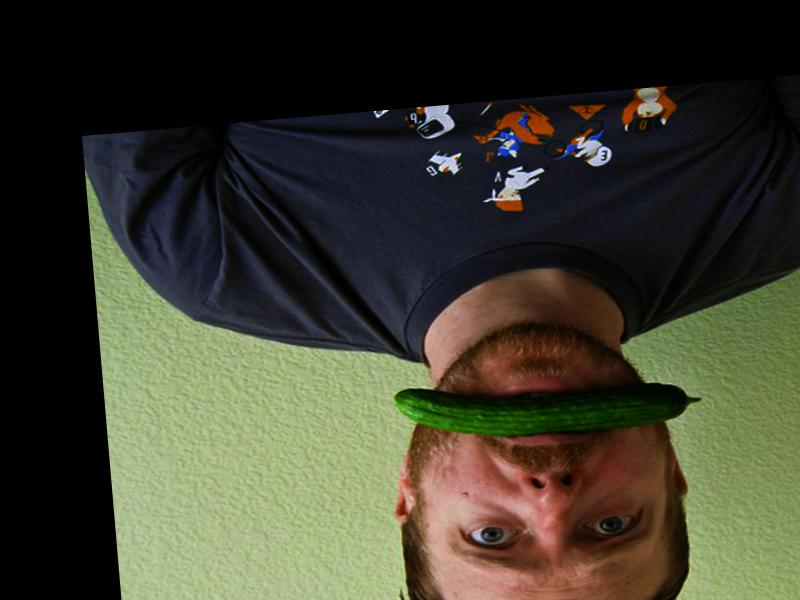Cucumber: (390, 363, 703, 447)
